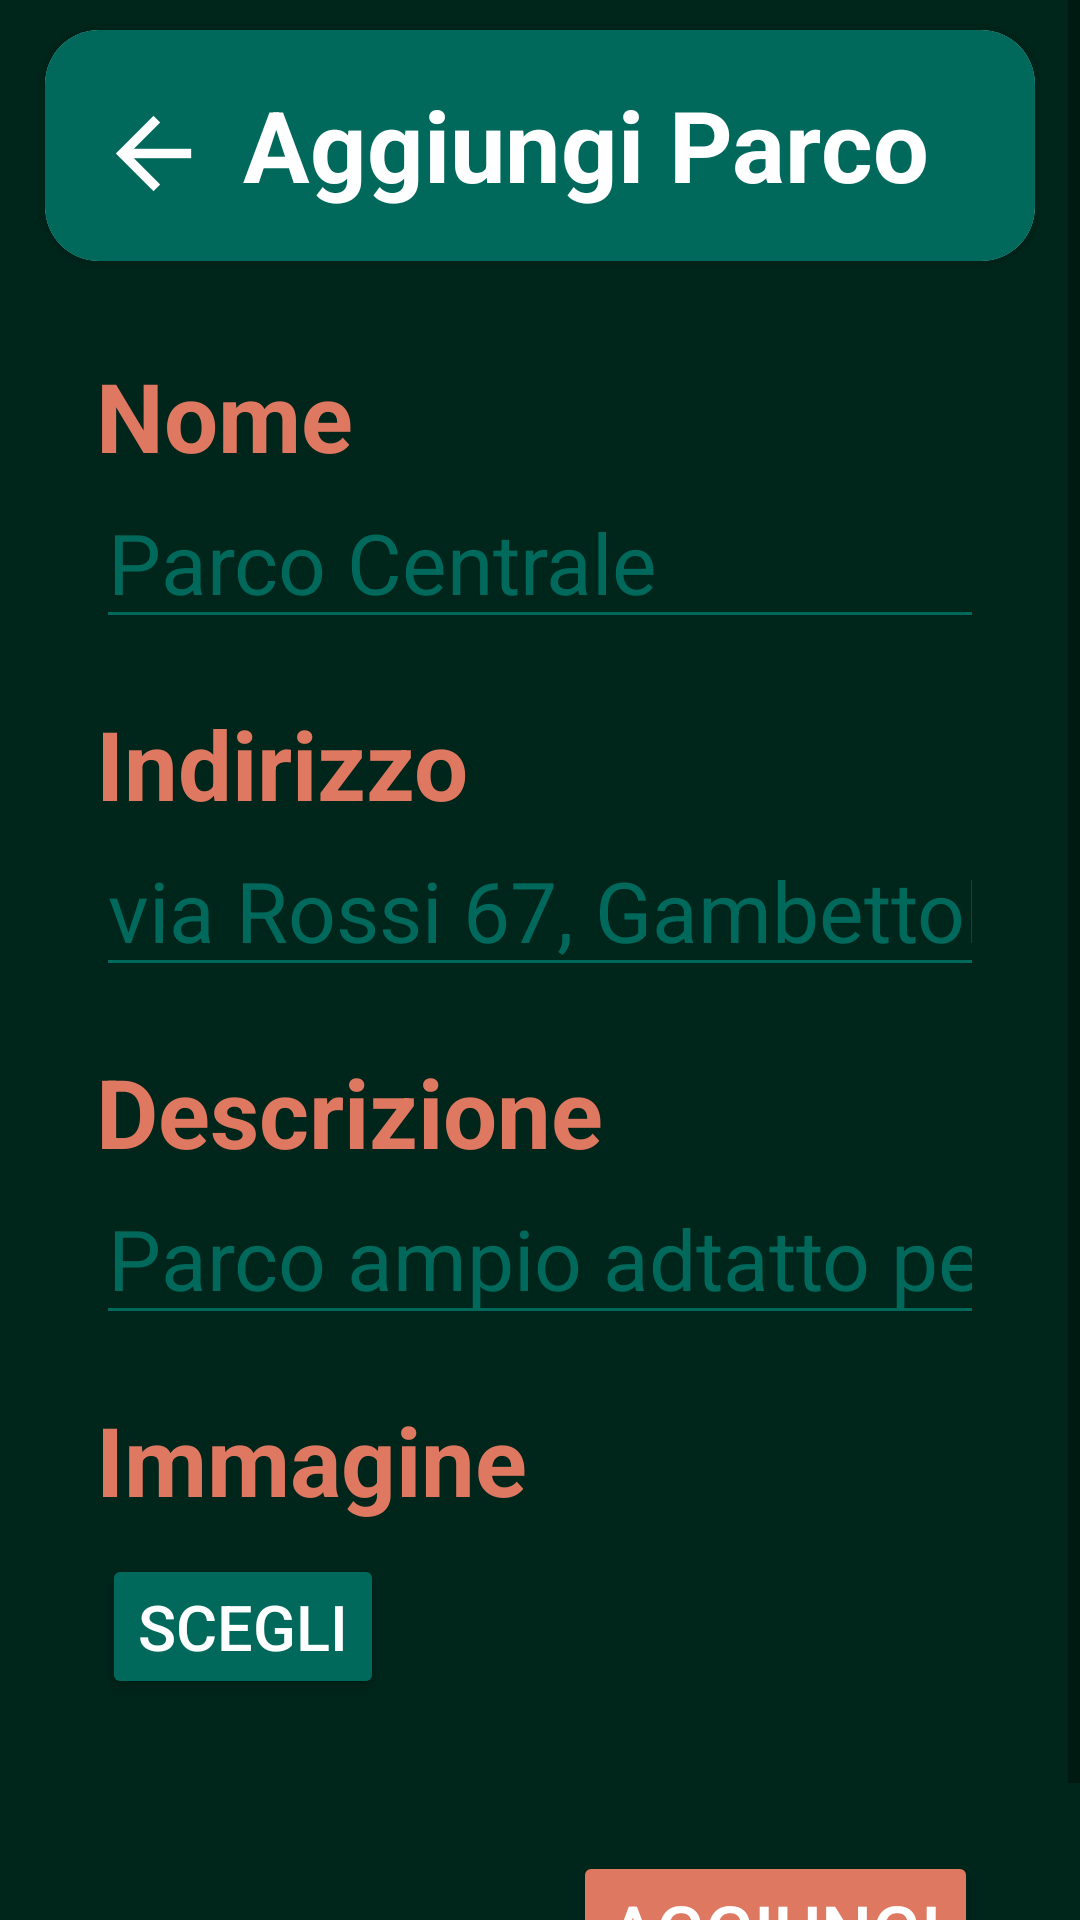

Point at icon controls on the screen. Image size 1080 x 1920, points as [x,y].
backarr: [153,153]
